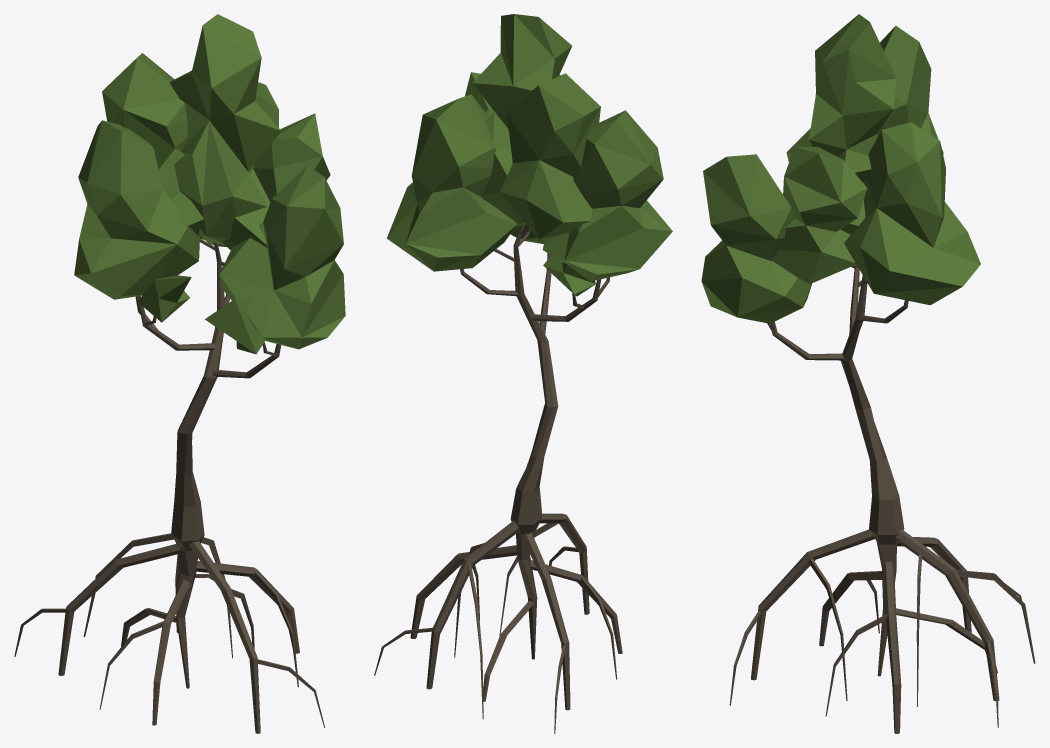
File: SM_Env_Mangrove_Tree_01.glb
3 renders of one model, left to right at view 1: azimuth 30°, elevation 25°; view 2: azimuth 150°, elevation 25°; view 3: azimuth 270°, elevation 25°, orthographic. The views are drawn at different scales.
Parts seen in each view (by area): view 1: SM_Env_Mangrove_Tree_01; view 2: SM_Env_Mangrove_Tree_01; view 3: SM_Env_Mangrove_Tree_01.
Part boxes in pixels (<box>): SM_Env_Mangrove_Tree_01: <box>14,14,345,733</box>; SM_Env_Mangrove_Tree_01: <box>374,14,672,733</box>; SM_Env_Mangrove_Tree_01: <box>701,14,1035,733</box>.
Size of the model in its own units: 0.0191 by 0.049 by 0.0223.
